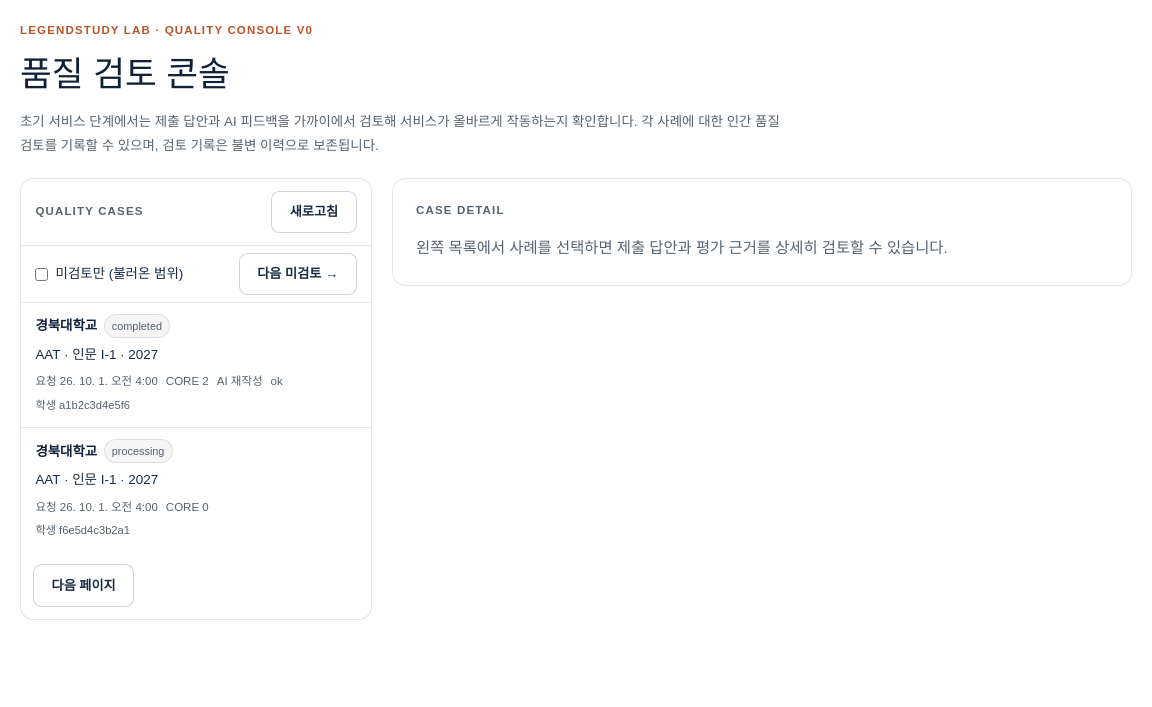
Test case: QualityConsole operator workspace › T10: selecting a case fetches detail and renders the FULL answer only in detail
Click the text "completed". click: (137, 326)
box: [104,314,170,338]
(page scrolled)
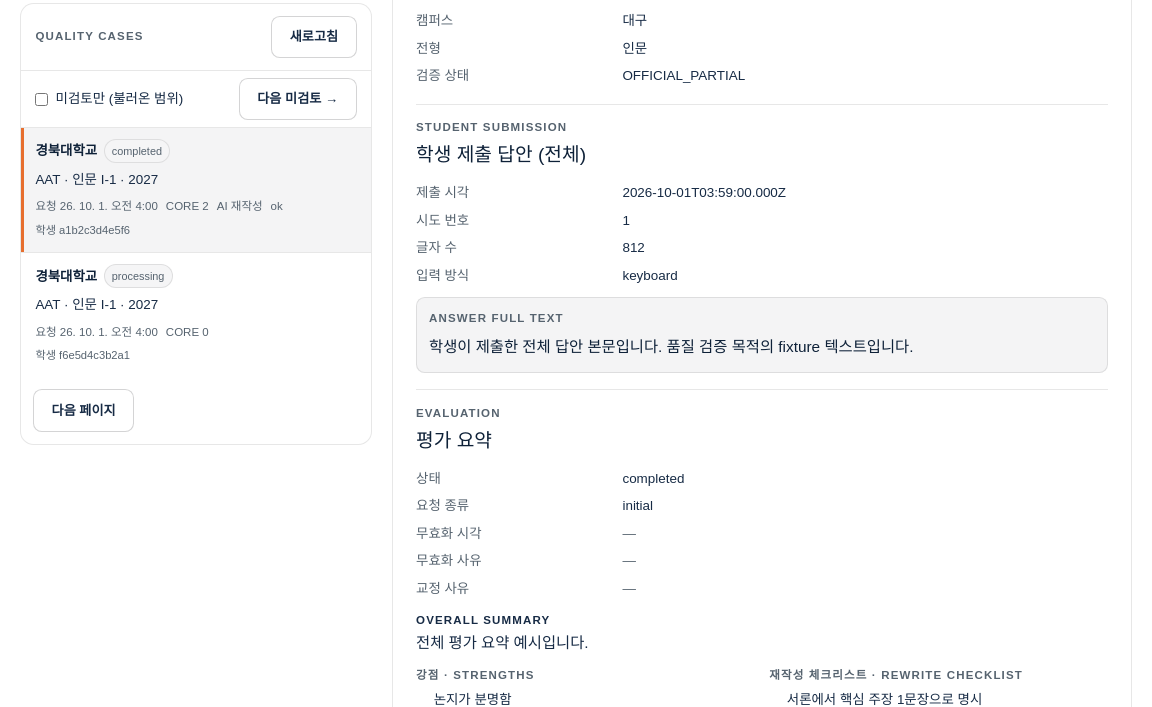
Expected: the element with test id "ql-answer-full" is shown, [416,297,1108,374]
Expected: the text "학생이 제출한 전체 답안 본문입니다. 품질 검증 목적의 fixture 텍스트입니다." is shown, [429,338,913,355]
